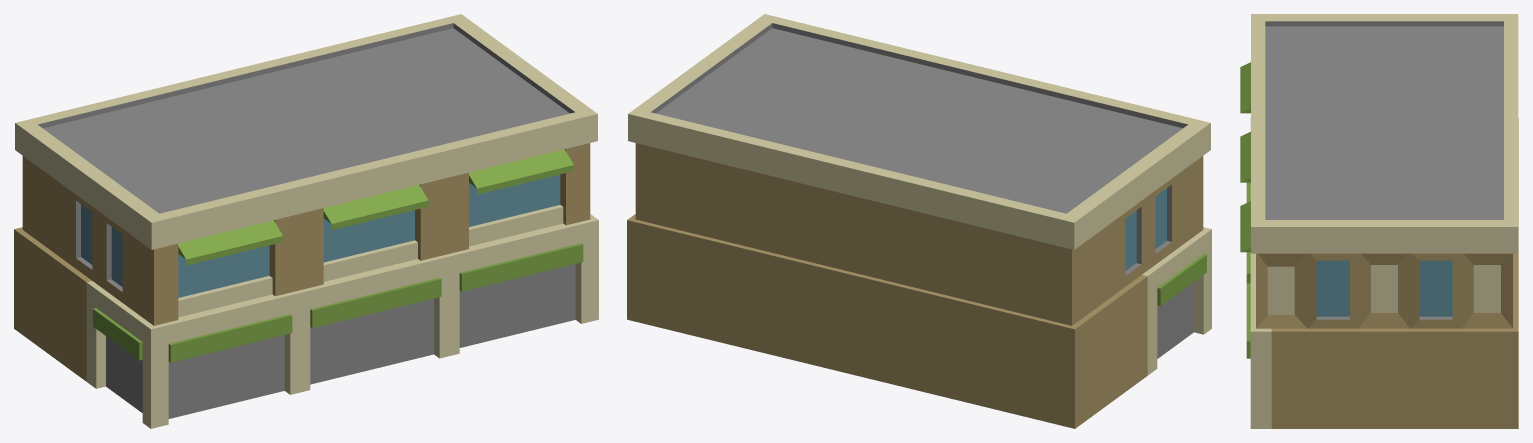
File: House 5.fbx
The picture shows the model from 3 angles, left to right: view 1: azimuth 30°, elevation 25°; view 2: azimuth 150°, elevation 25°; view 3: azimuth 270°, elevation 25°; orthographic projection. The views are drawn at different scales.
Visible parts, largest first — view 1: House 5; view 2: House 5; view 3: House 5.
Part boxes in pixels (x1=…): House 5: x1=14, y1=14, x2=598, y2=428; House 5: x1=627, y1=14, x2=1211, y2=428; House 5: x1=1240, y1=14, x2=1518, y2=428.
Size of the model in its own units: 2.14 by 0.9346 by 1.17.
